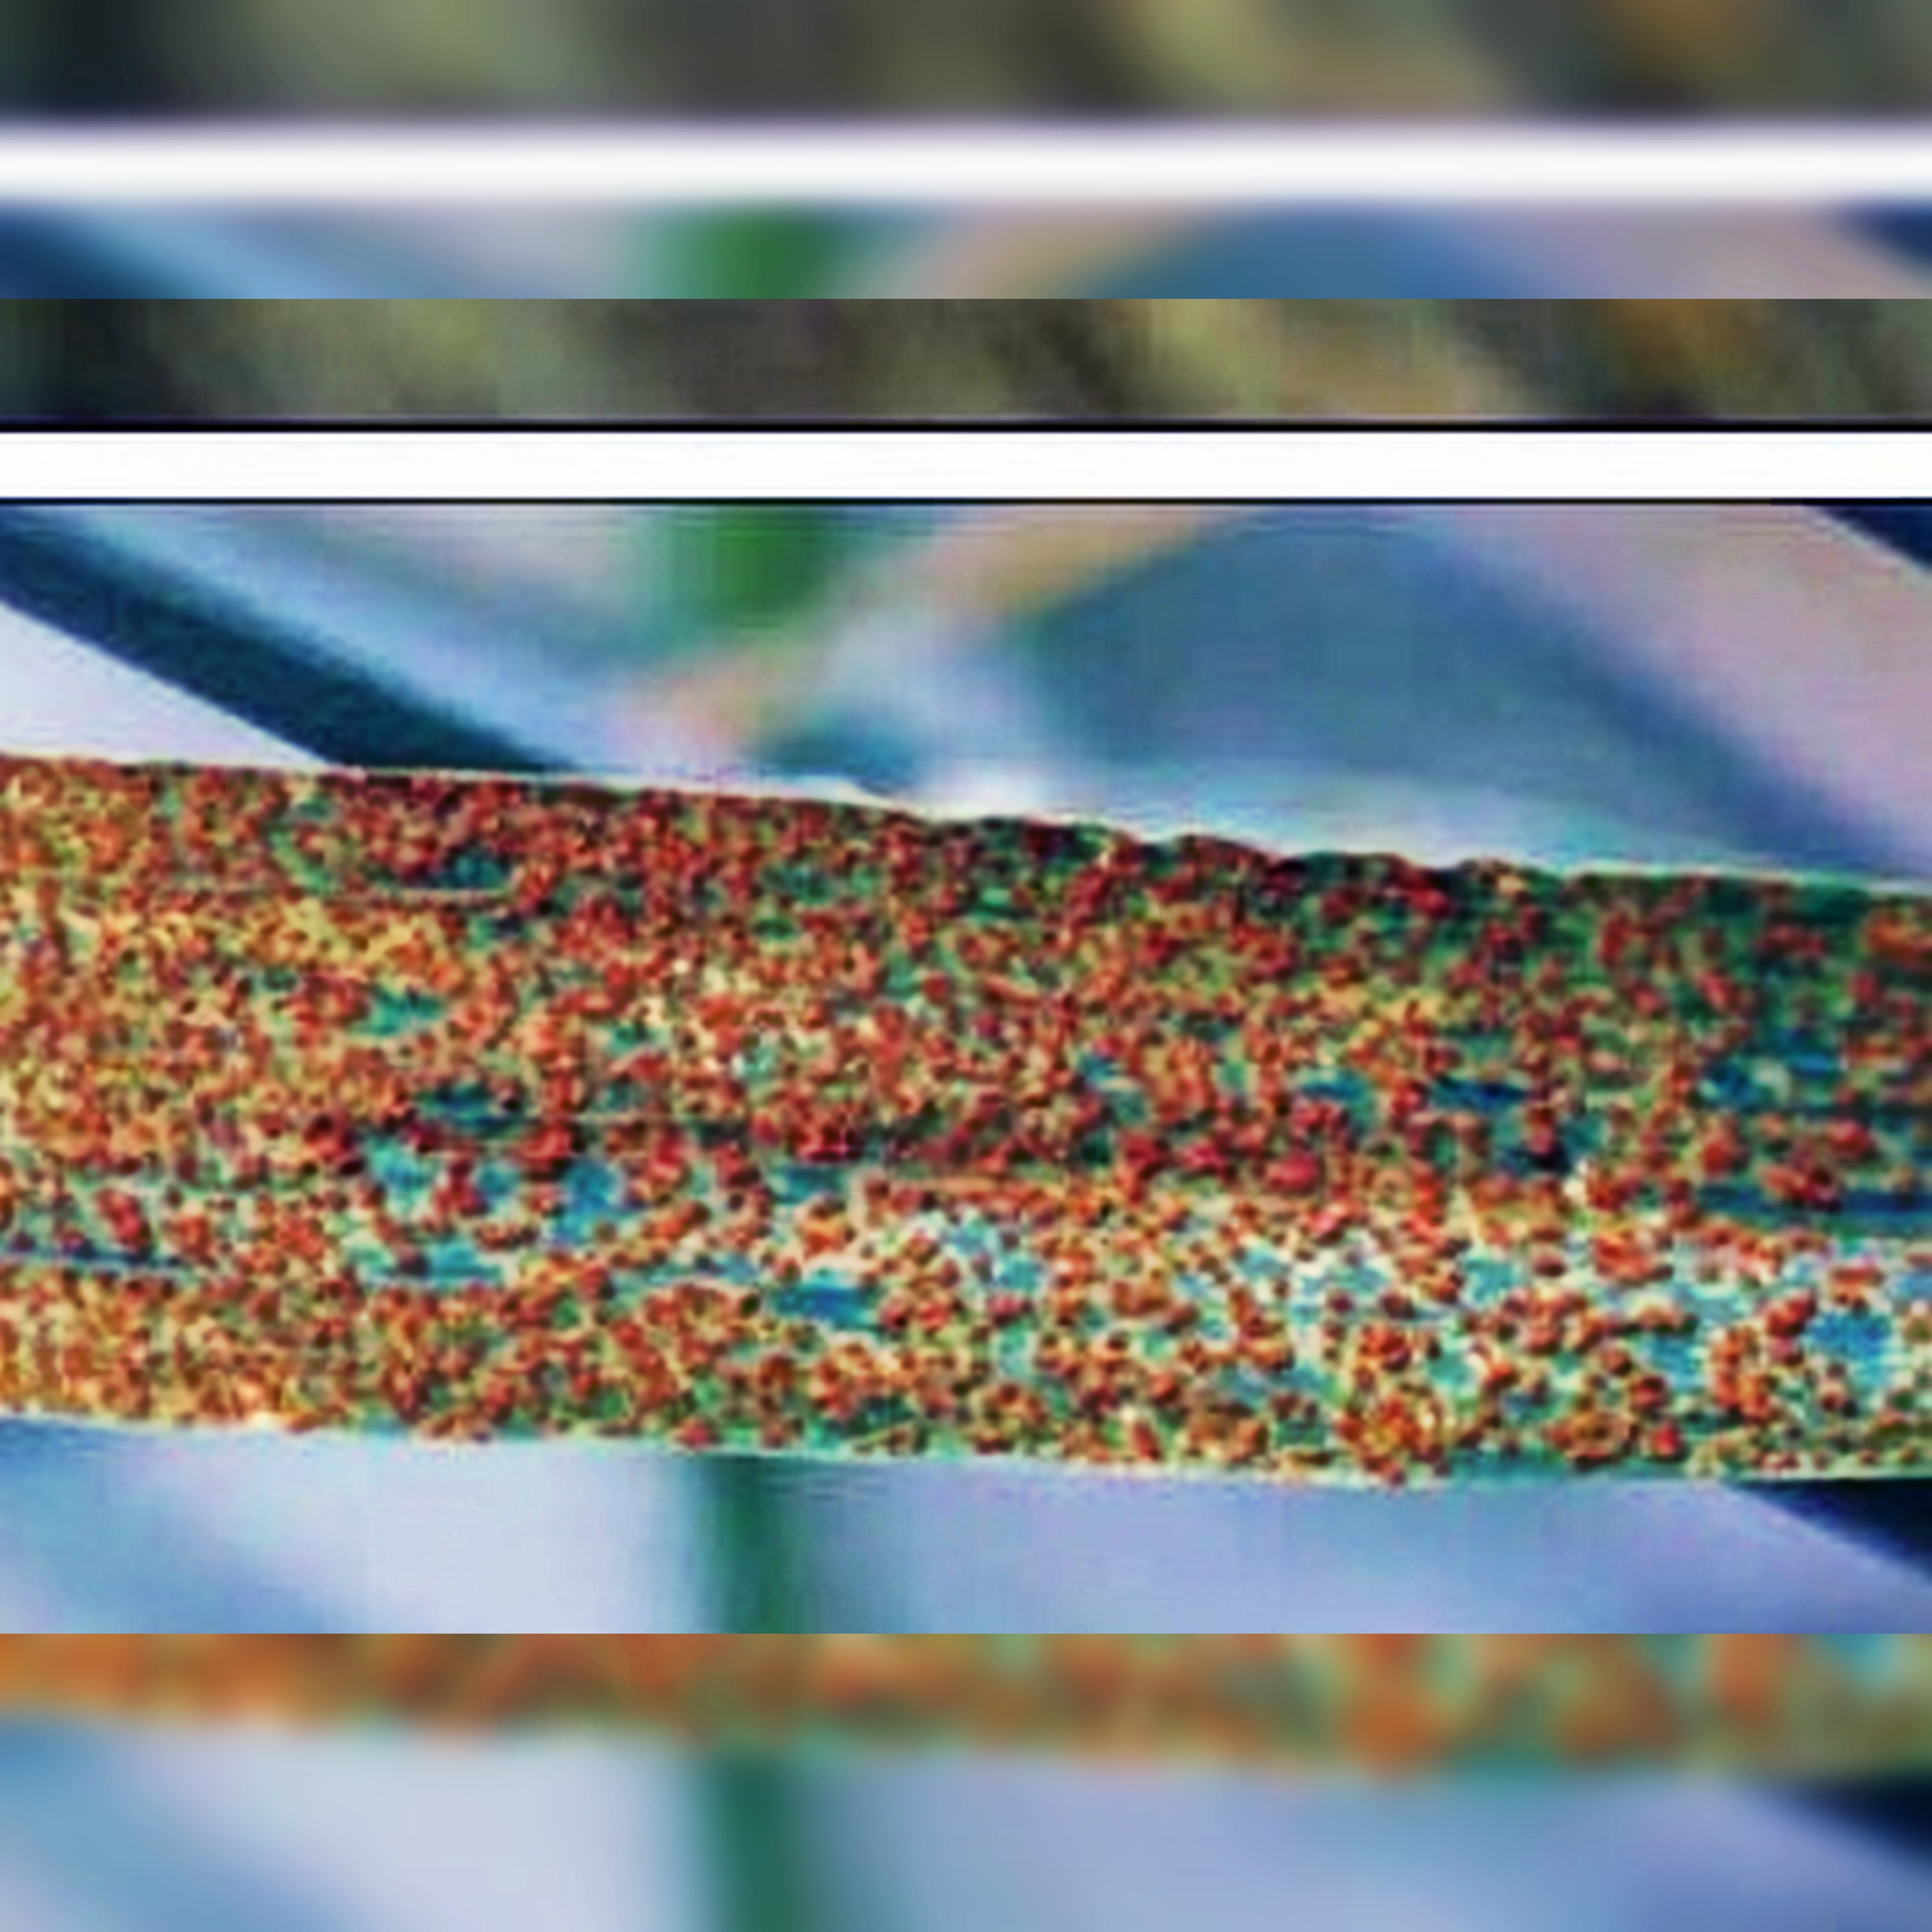Leaf Rust: (12, 761, 1897, 1483)
